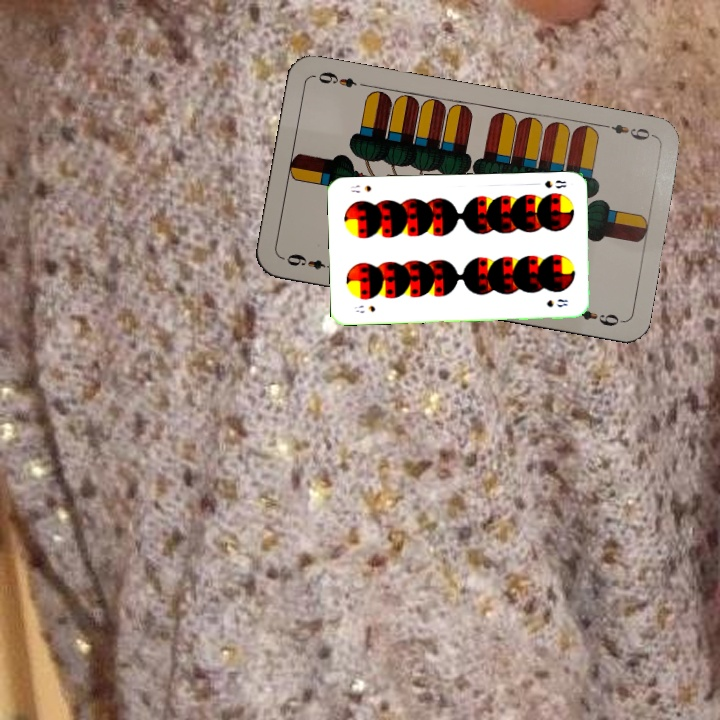E9: (598, 120, 657, 143), (283, 250, 339, 272)
S8: (541, 176, 569, 191), (350, 301, 377, 316)
